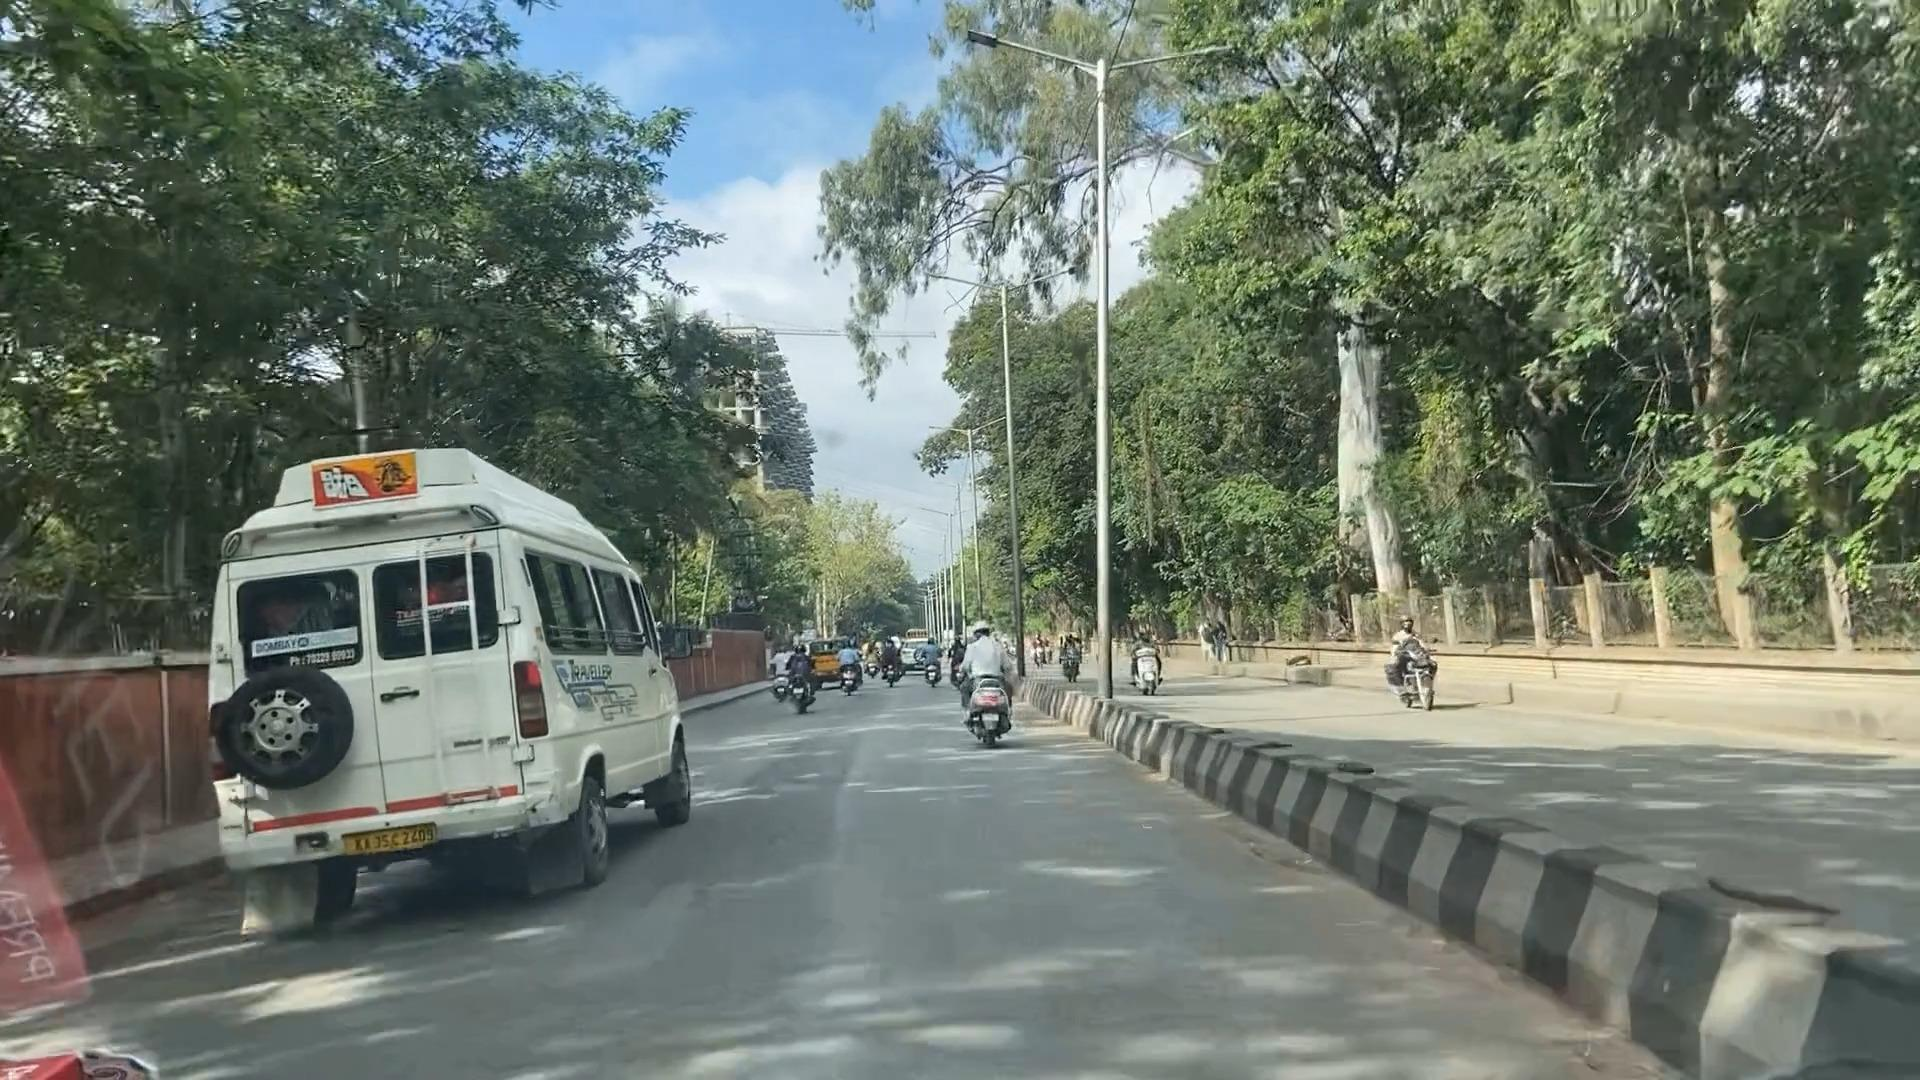HMV: (208, 534, 570, 901)
LMV: (953, 615, 1014, 744), (782, 638, 820, 723), (833, 634, 856, 700)
